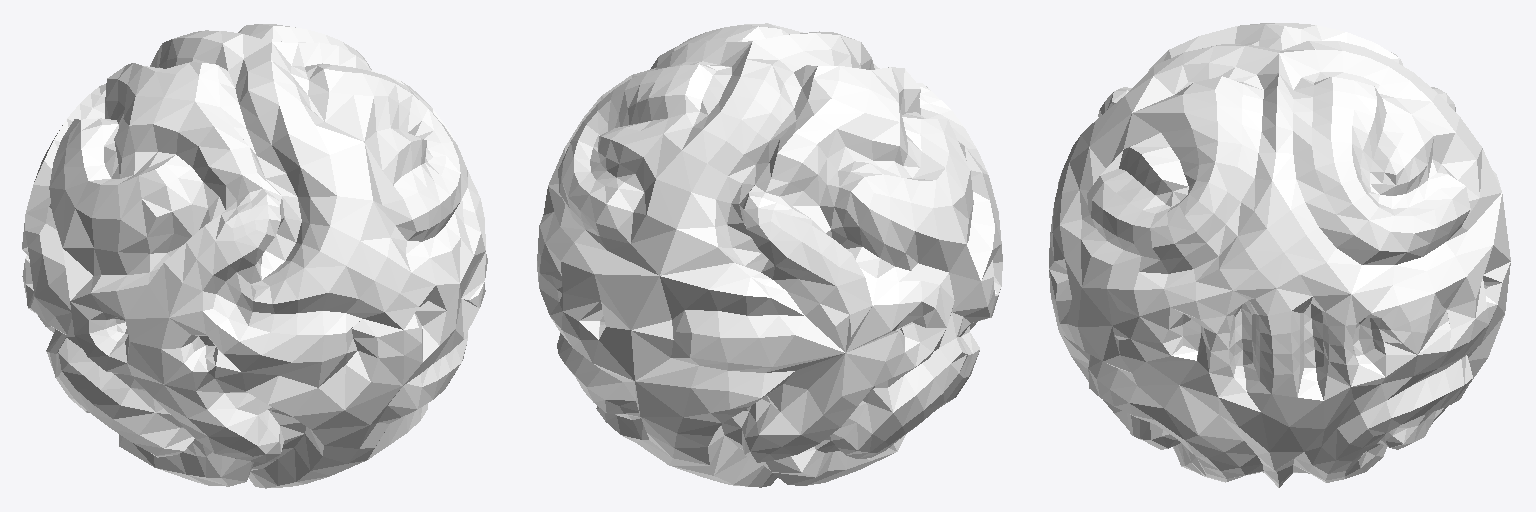
File: Artifact03.Obj
3 renders of one model, left to right at view 1: azimuth 30°, elevation 25°; view 2: azimuth 150°, elevation 25°; view 3: azimuth 270°, elevation 25°, orthographic.
Parts seen in each view (by area): view 1: Volume7; view 2: Volume7; view 3: Volume7.
Boxes of the visible parts, x1=… form: Volume7: x1=22, y1=24, x2=487, y2=488; Volume7: x1=537, y1=23, x2=1002, y2=487; Volume7: x1=1049, y1=23, x2=1510, y2=487.
Size of the model in its own units: 230 by 231 by 229.